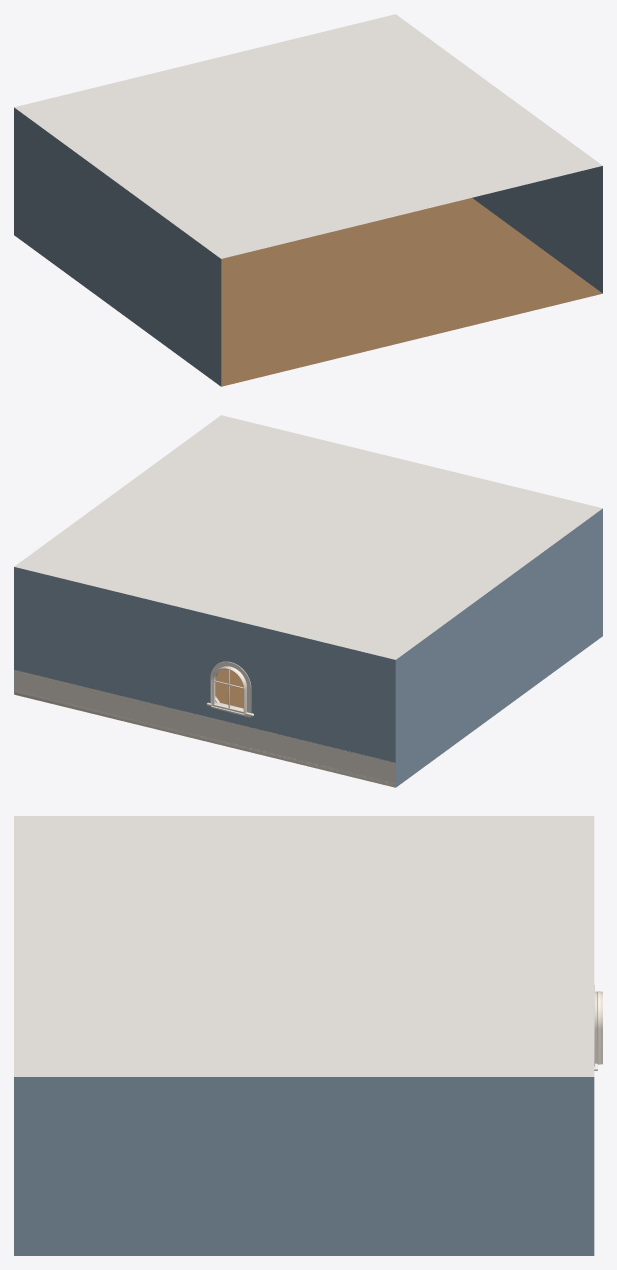
File: room.glb
The picture shows the model from 3 angles, top to bottom: view 1: azimuth 30°, elevation 25°; view 2: azimuth 150°, elevation 25°; view 3: azimuth 270°, elevation 25°; orthographic projection. The views are drawn at different scales.
Parts seen in each view (by area): view 1: shell, floor; view 2: shell, wall, trims, atlas, floor; view 3: shell, atlas.
Part boxes in pixels (left/top/right/bottom): shell: left=14, top=14, right=602, bottom=386; floor: left=221, top=198, right=602, bottom=386; shell: left=14, top=415, right=602, bottom=787; wall: left=14, top=567, right=395, bottom=787; trims: left=14, top=670, right=395, bottom=786; atlas: left=206, top=661, right=253, bottom=717; floor: left=15, top=669, right=394, bottom=787; shell: left=14, top=816, right=594, bottom=1255; atlas: left=594, top=985, right=602, bottom=1070.
Size of the model in its own units: 10 by 3.2 by 9.54.
